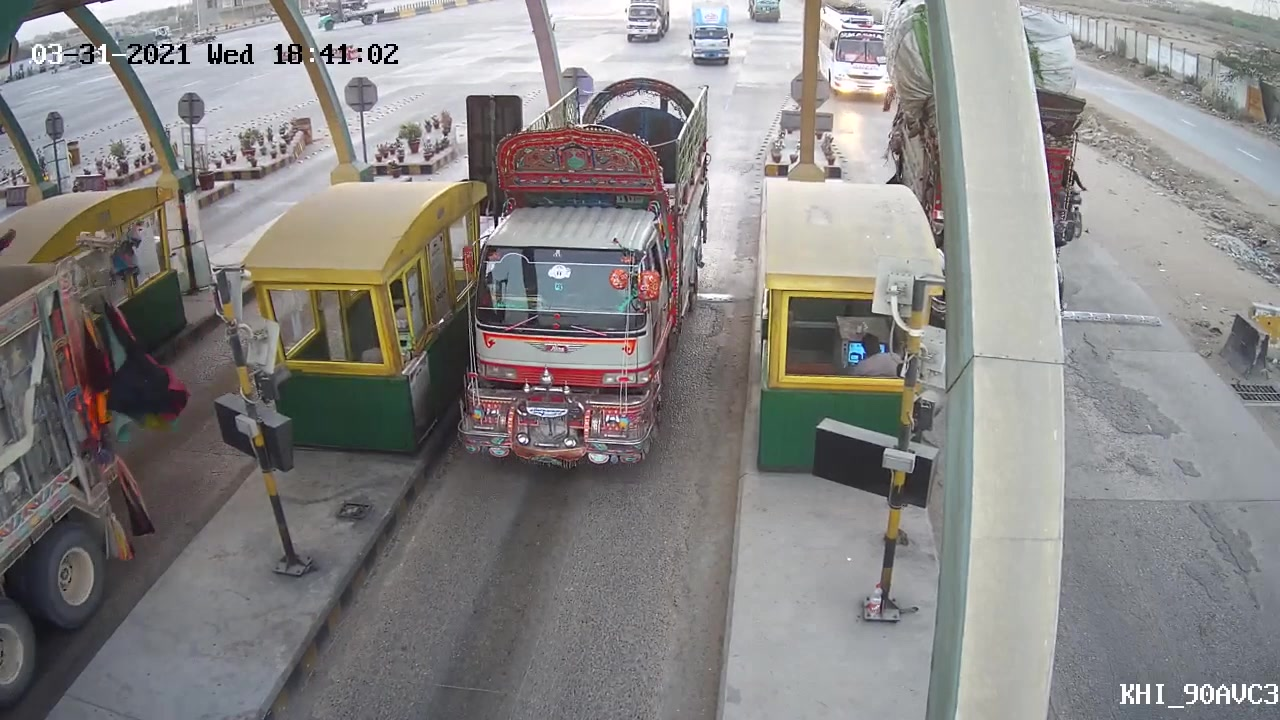F5: (448, 71, 723, 472)
